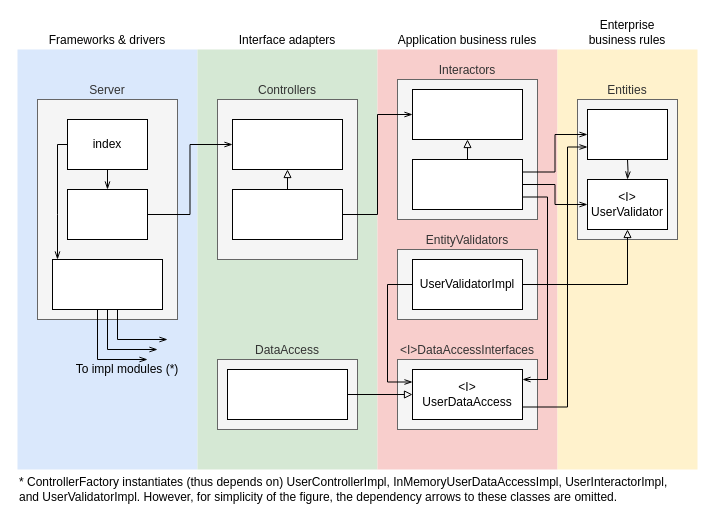
Some shapes in this 714 by 521 pixel diagram are drawn without their labels. Here are the shapes that lost their labels. From the top down, the centre of each, then its label:
At [467,114]: "<I> UserInteractor".
At [627,134]: "User".
At [287,144]: "<I> UserController".
At [467,184]: "UserInteractorImpl".
At [107,214]: "App".
At [287,214]: "UserControllerImpl".
At [107,284]: "ControllerFactory".
At [287,394]: "InMemory UserDataAccessImpl".
